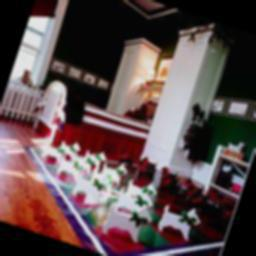Armario: (139, 32, 233, 178)
Otro Obstaculo: (100, 202, 154, 249), (157, 203, 204, 241), (70, 170, 111, 210), (113, 187, 156, 220), (123, 177, 160, 203), (57, 151, 86, 178), (100, 162, 130, 185)
